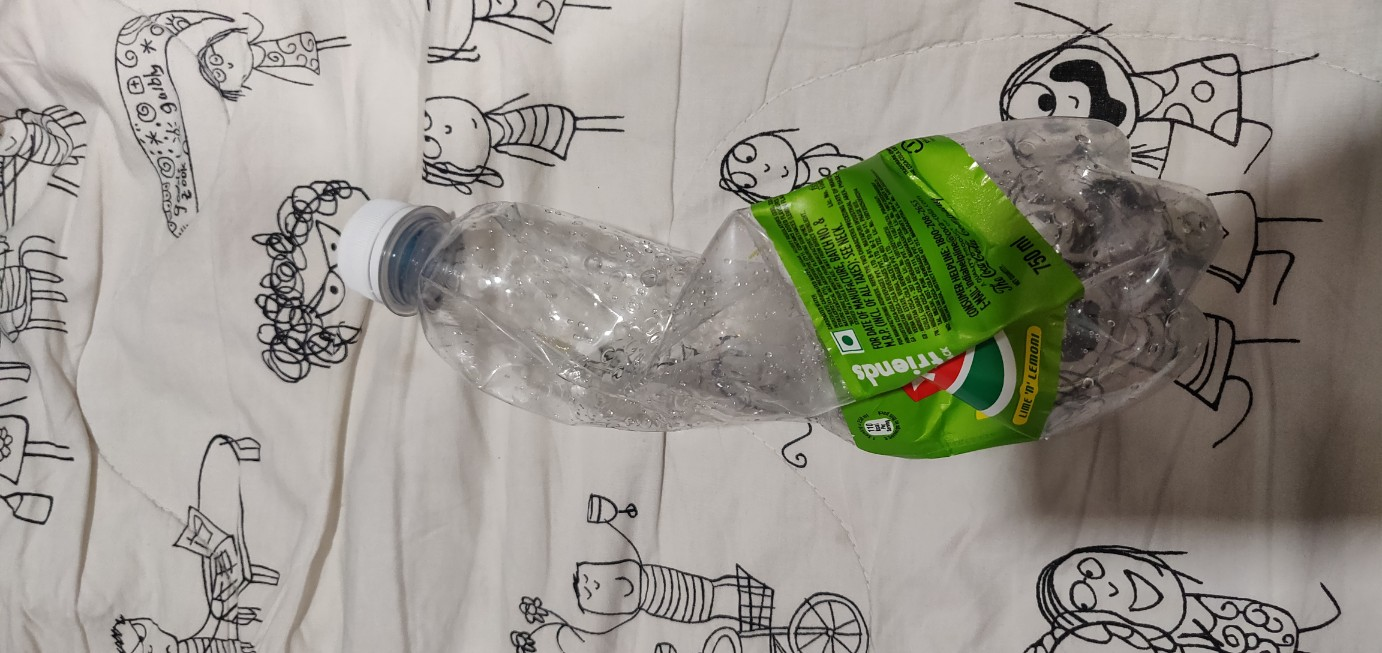Electronics: (306, 85, 1283, 484)
